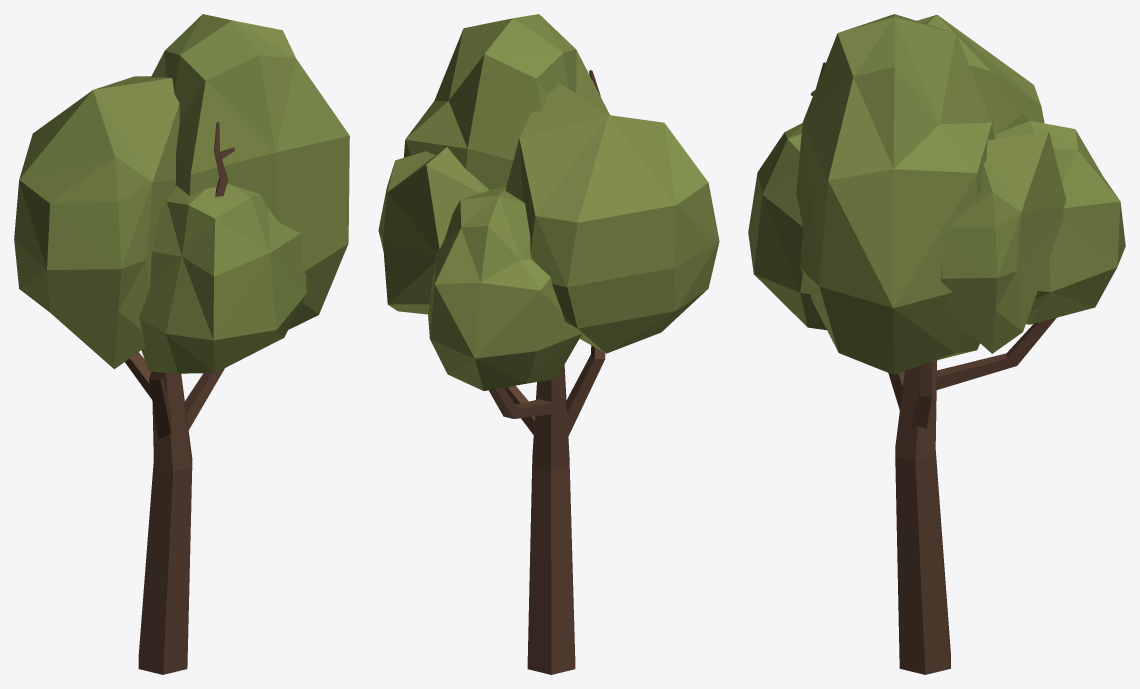
The model's file is tree3.glb.
3 views of the same model, side by side, from view 1: azimuth 30°, elevation 25°; view 2: azimuth 150°, elevation 25°; view 3: azimuth 270°, elevation 25° (orthographic). The views are drawn at different scales.
Parts seen in each view (by area): view 1: tree13; view 2: tree13; view 3: tree13.
Boxes of the visible parts, left/top/right/bottom form: tree13: left=14, top=14, right=349, bottom=674; tree13: left=378, top=14, right=719, bottom=674; tree13: left=748, top=14, right=1125, bottom=674.
Bounding box in the file's own units: 2.92 × 5.84 × 2.97.
Materials: 1 (1 with a texture image).
